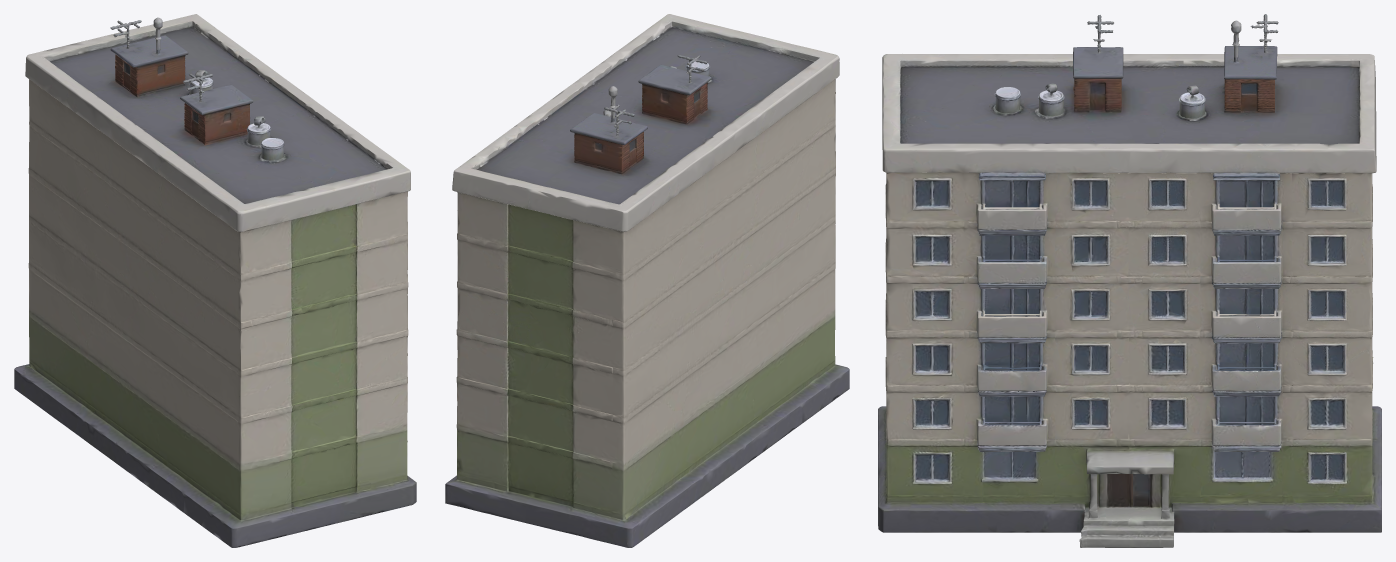
File: Apartment.fbx
3 renders of one model, left to right at view 1: azimuth 30°, elevation 25°; view 2: azimuth 150°, elevation 25°; view 3: azimuth 270°, elevation 25°, orthographic. The views are drawn at different scales.
Parts seen in each view (by area): view 1: Apartment; view 2: Apartment; view 3: Apartment.
Boxes of the visible parts, box(x1,y1,x2,y2) form: Apartment: box(14, 14, 416, 547); Apartment: box(445, 14, 849, 547); Apartment: box(878, 14, 1381, 547).
Bounding box in the file's own units: 55.46 × 97.21 × 97.85.
